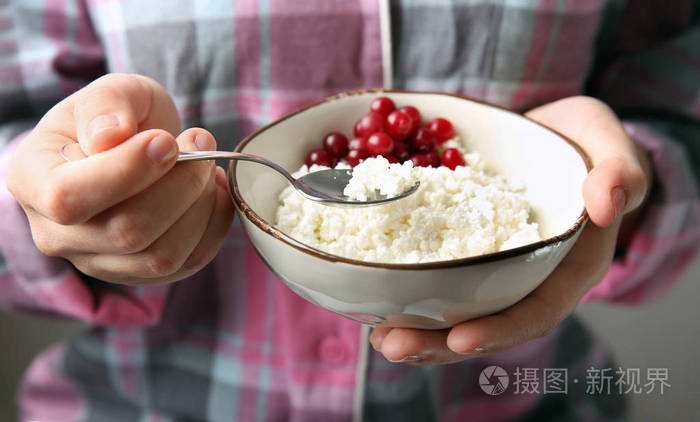no-phone: (4, 68, 305, 290)
